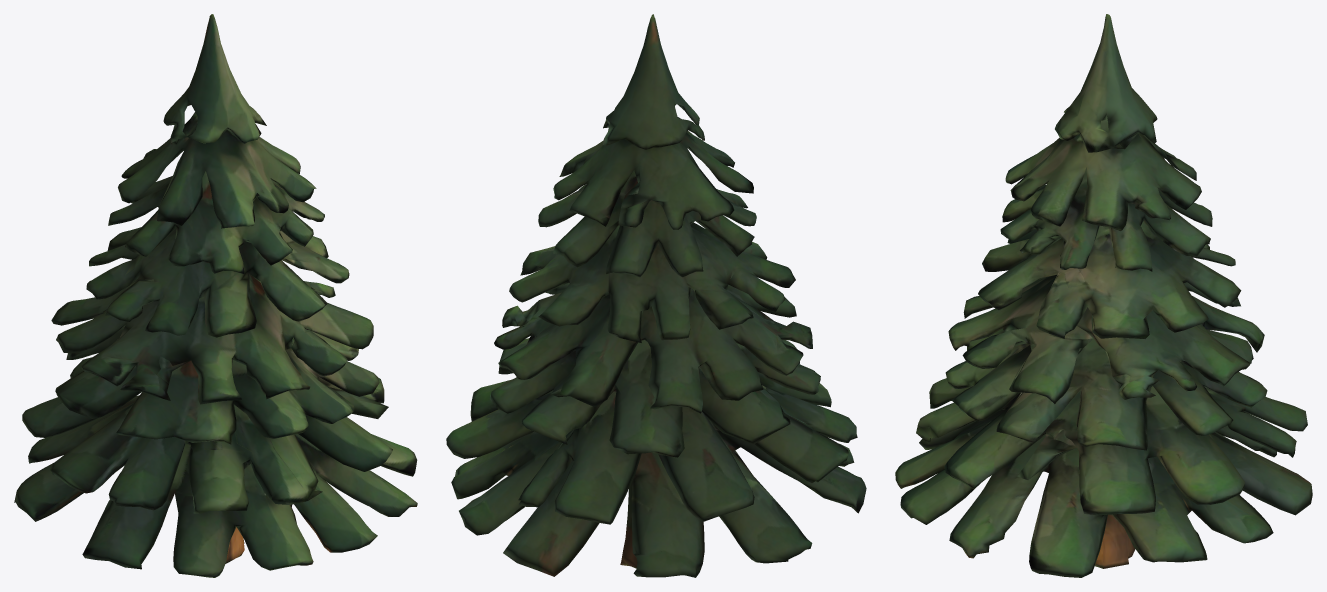
Rendered from tree.glb.
3 renders of one model, left to right at view 1: azimuth 30°, elevation 25°; view 2: azimuth 150°, elevation 25°; view 3: azimuth 270°, elevation 25°, orthographic.
Bounding box in the file's own units: 1.34 × 1.98 × 1.38.
1 material, 1 textured.
